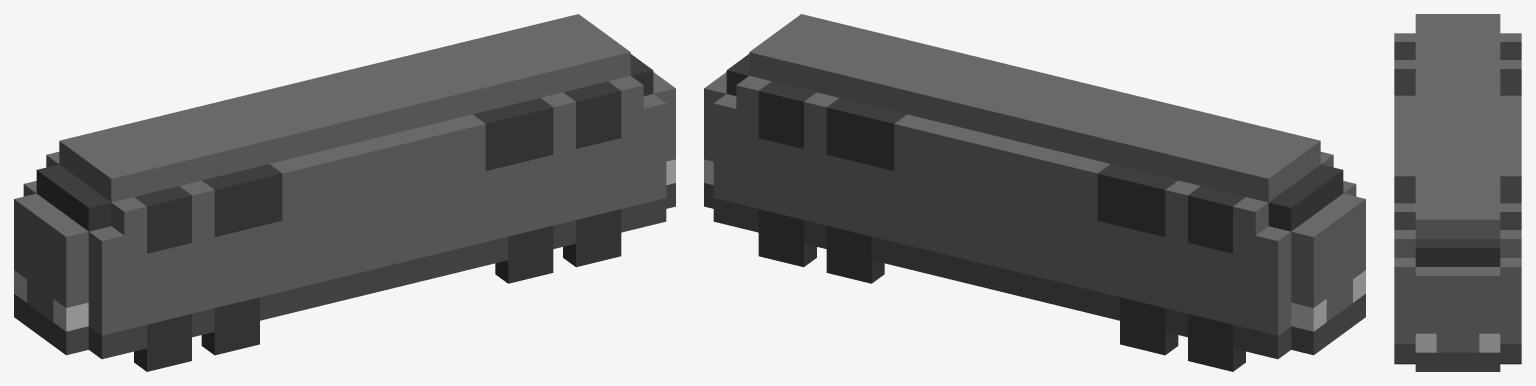
Rendered from train-v3-grey.gltf.
3 renders of one model, left to right at view 1: azimuth 30°, elevation 25°; view 2: azimuth 150°, elevation 25°; view 3: azimuth 270°, elevation 25°, orthographic. The views are drawn at different scales.
Parts seen in each view (by area): view 1: model, wheels; view 2: model, wheels; view 3: model.
Boxes of the visible parts, <box> form: model: <box>14,14,675,359</box>; wheels: <box>134,209,621,371</box>; model: <box>704,14,1365,359</box>; wheels: <box>758,209,1245,371</box>; model: <box>1394,14,1521,371</box>.
Bounding box in the file's own units: 2.7 × 0.8 × 0.6.
Materials: 2 (2 with a texture image).
